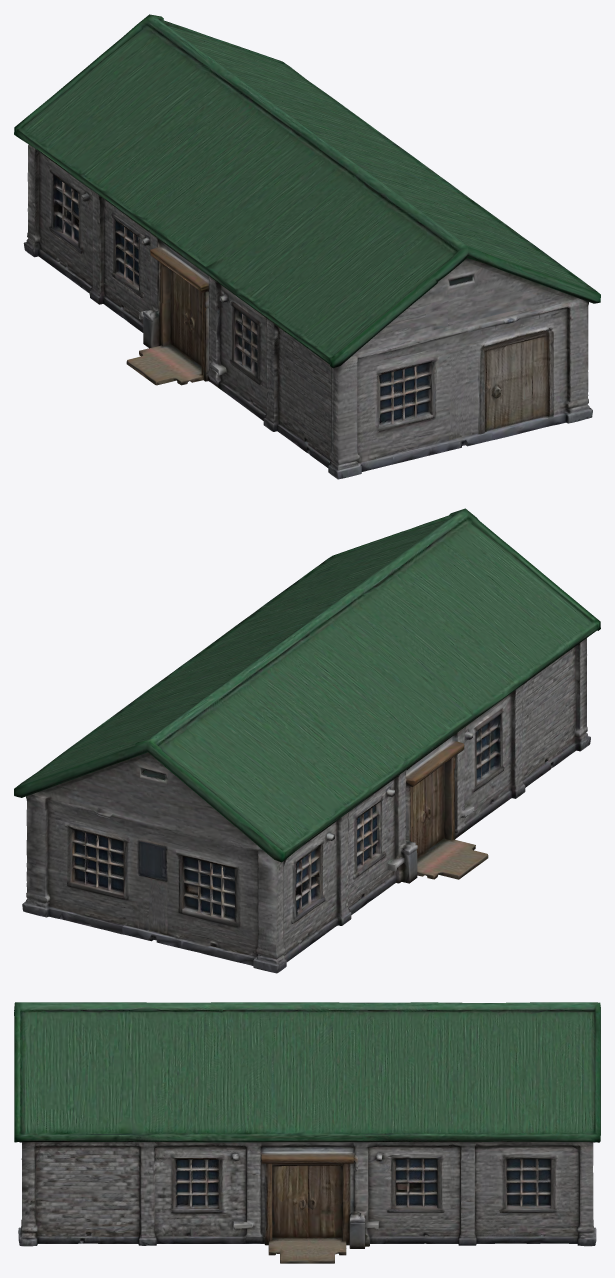
File: warehouse.glb
The picture shows the model from 3 angles, top to bottom: view 1: azimuth 30°, elevation 25°; view 2: azimuth 150°, elevation 25°; view 3: azimuth 270°, elevation 25°; orthographic projection. The views are drawn at different scales.
Visible parts, largest first — view 1: tripo_node_5444770e-4f7b-4533-bf9a-6ee86a5514af; view 2: tripo_node_5444770e-4f7b-4533-bf9a-6ee86a5514af; view 3: tripo_node_5444770e-4f7b-4533-bf9a-6ee86a5514af.
Part boxes in pixels (x1,y1,x2,y2): tripo_node_5444770e-4f7b-4533-bf9a-6ee86a5514af: (14,14,600,479); tripo_node_5444770e-4f7b-4533-bf9a-6ee86a5514af: (14,508,600,973); tripo_node_5444770e-4f7b-4533-bf9a-6ee86a5514af: (14,1002,600,1263).
Size of the model in its own units: 0.5912 by 0.3442 by 0.9782.
Materials: 1 (1 with a texture image).
